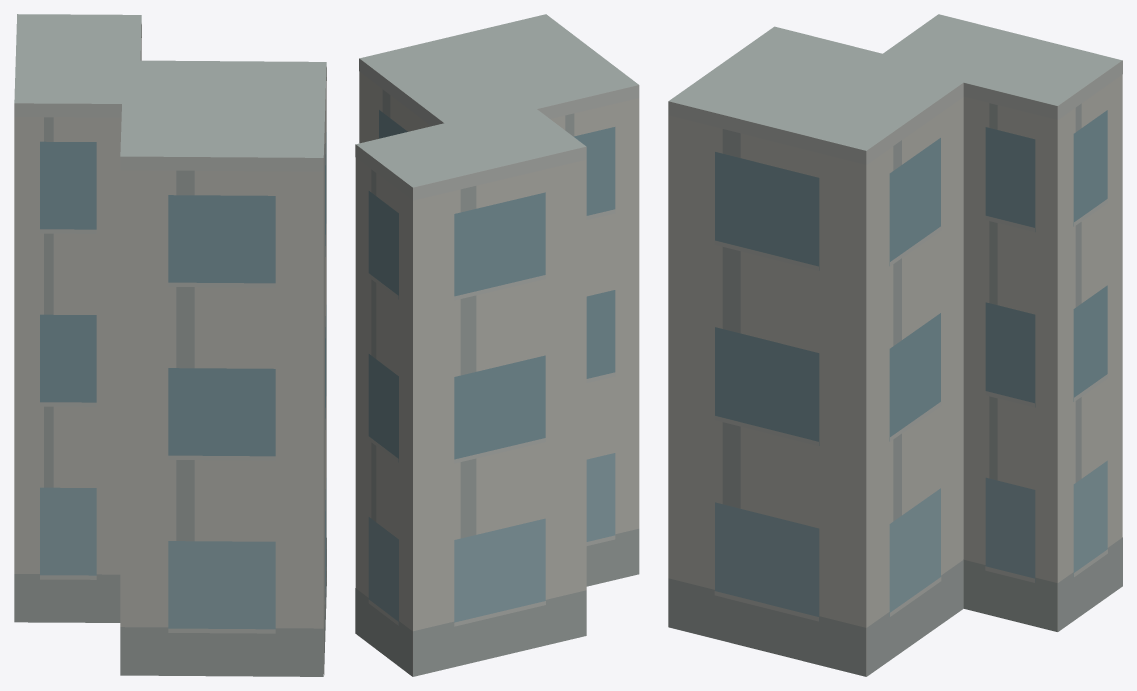
File: survey-upis-32911684.glb
The picture shows the model from 3 angles, left to right: view 1: azimuth 30°, elevation 25°; view 2: azimuth 150°, elevation 25°; view 3: azimuth 270°, elevation 25°; orthographic projection. The views are drawn at different scales.
Visible parts, largest first — view 1: survey-upis-32911684.tmp; view 2: survey-upis-32911684.tmp; view 3: survey-upis-32911684.tmp.
Part boxes in pixels (x1,y1,x2,y2): survey-upis-32911684.tmp: [14, 14, 326, 676]; survey-upis-32911684.tmp: [355, 14, 639, 676]; survey-upis-32911684.tmp: [668, 14, 1122, 676].
Size of the model in its own units: 5.12 by 9.15 by 7.17.
